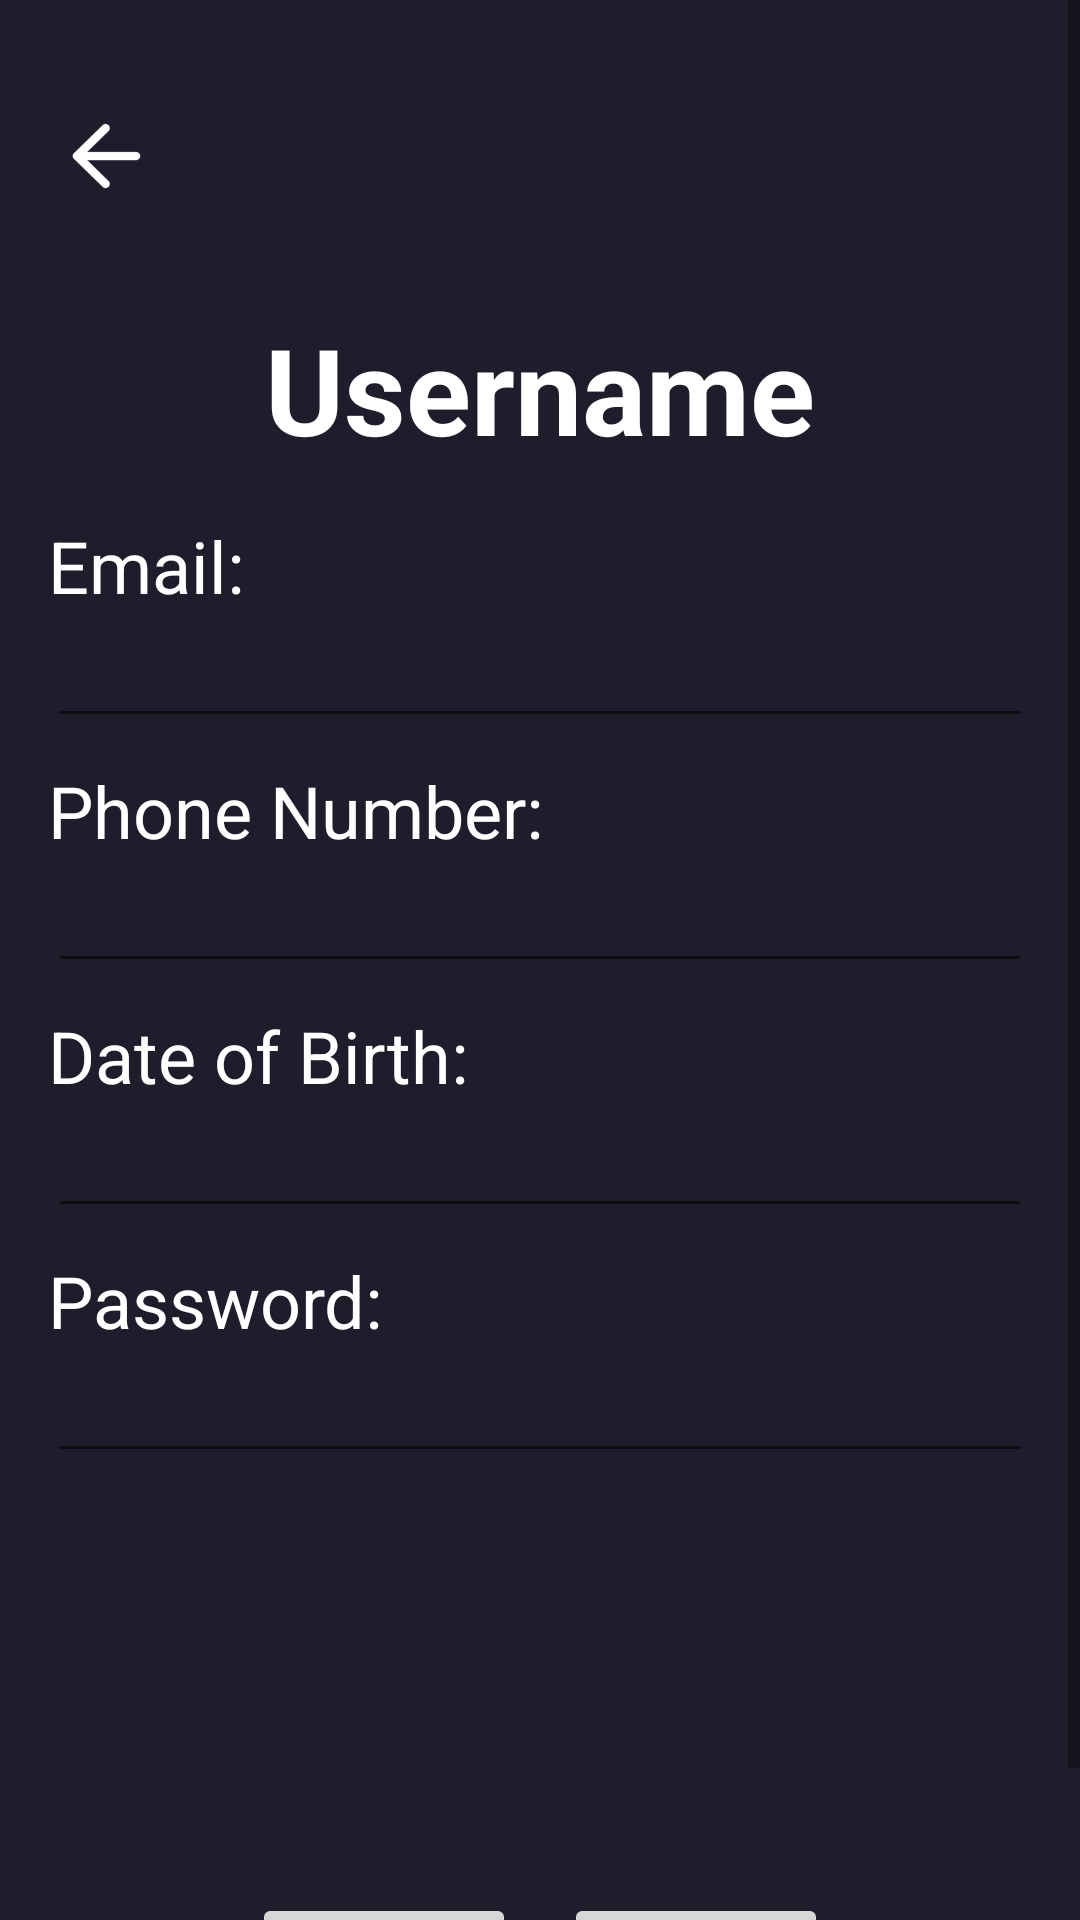

Named icons in this screenshot (1080px×1920px) and their centers, (x=x, y=y):
back: (x=106, y=156)
